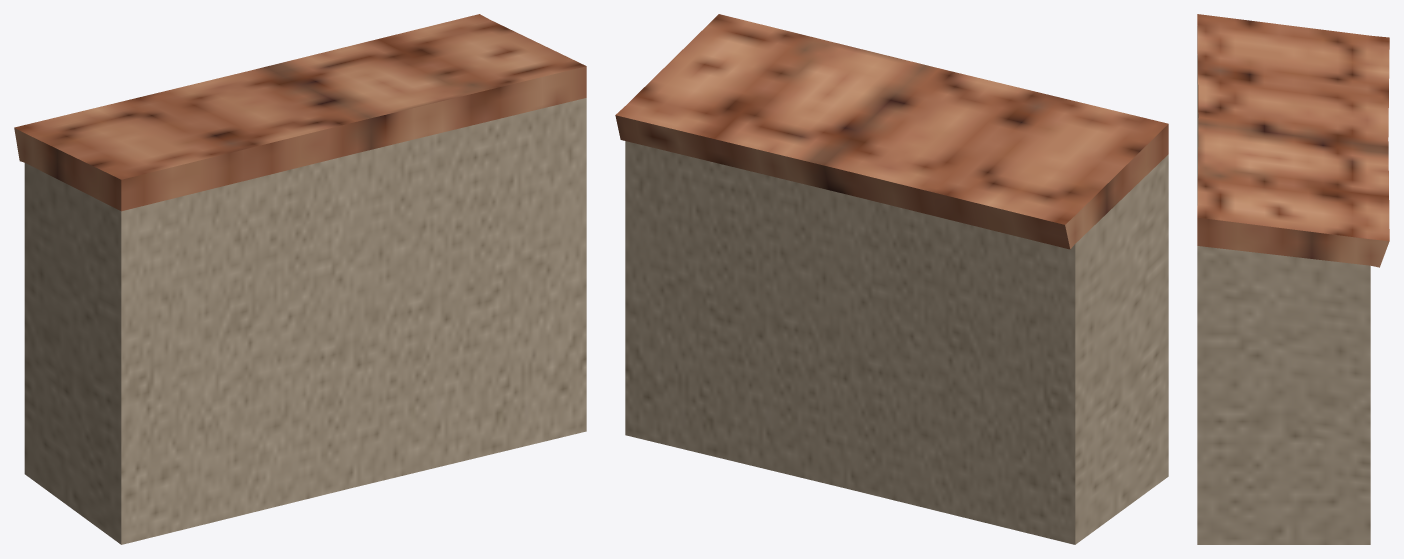
The model's file is plaster_wall_half.fbx.
3 views of the same model, side by side, from view 1: azimuth 30°, elevation 25°; view 2: azimuth 150°, elevation 25°; view 3: azimuth 270°, elevation 25° (orthographic). The views are drawn at different scales.
Parts seen in each view (by area): view 1: plaster_wall_half; view 2: plaster_wall_half; view 3: plaster_wall_half.
Part boxes in pixels (x1=…): plaster_wall_half: x1=14, y1=14, x2=586, y2=544; plaster_wall_half: x1=615, y1=14, x2=1168, y2=544; plaster_wall_half: x1=1197, y1=14, x2=1389, y2=544.
Bounding box in the file's own units: 100 × 74.98 × 39.91.
2 materials, 2 textured.
